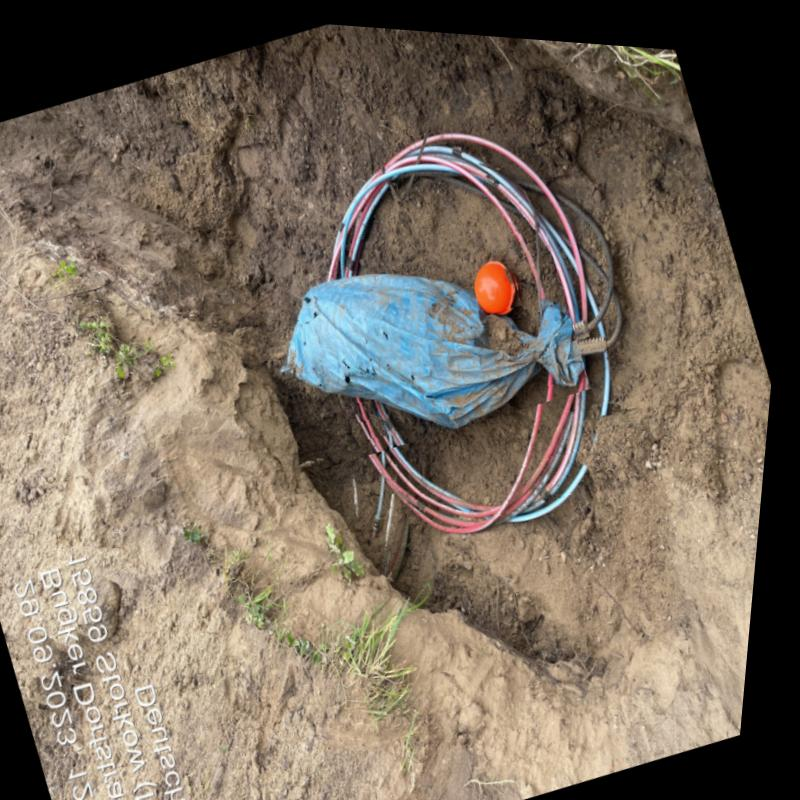Kugelmarker: (478, 252, 519, 304)
NT-Muffen: (290, 266, 588, 420)
